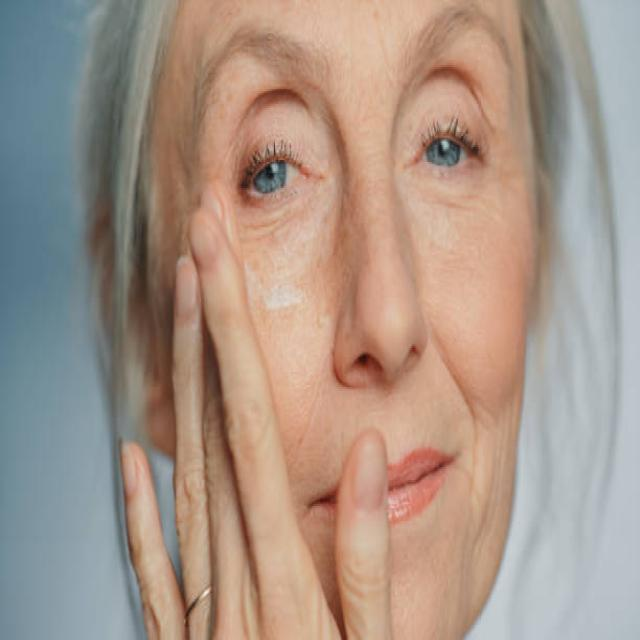dry: (412, 190, 555, 554)
